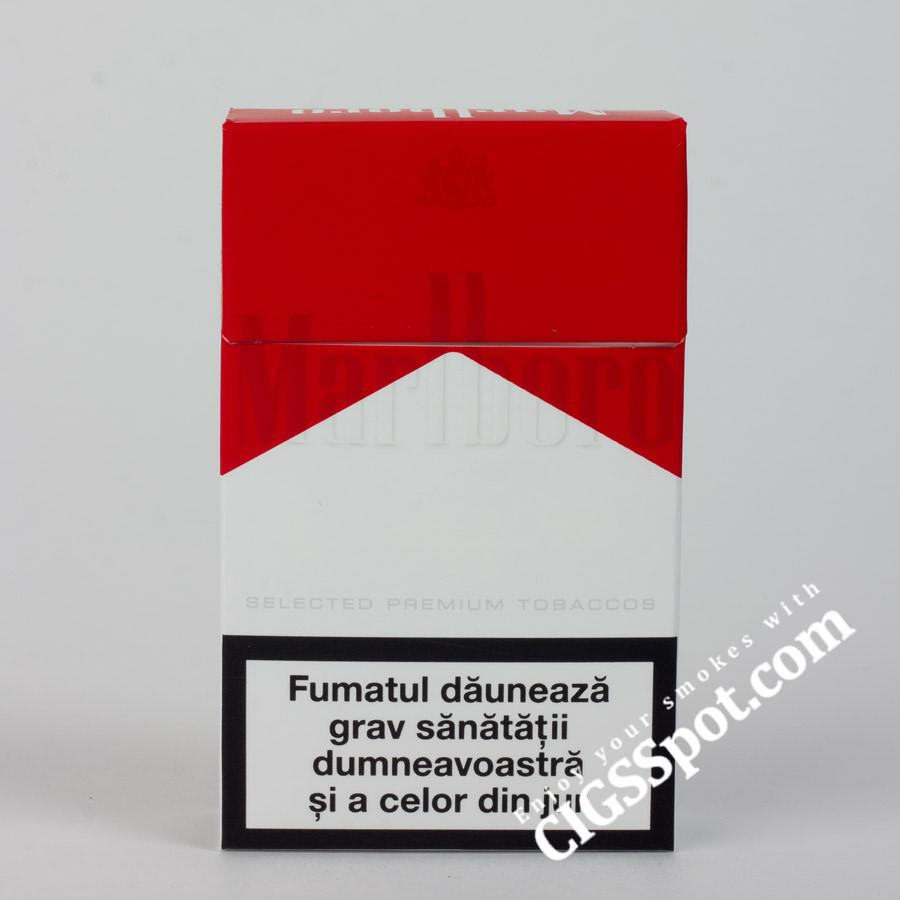marlboro_red: (229, 126, 671, 848)
